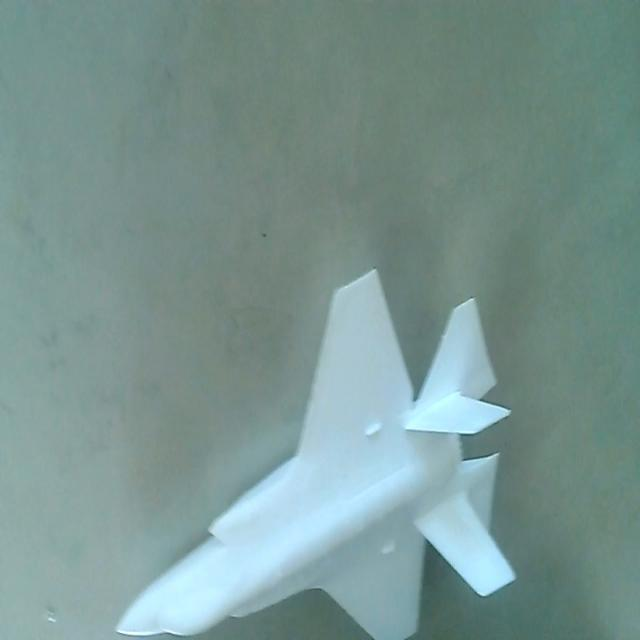Jet: (106, 259, 518, 640)
